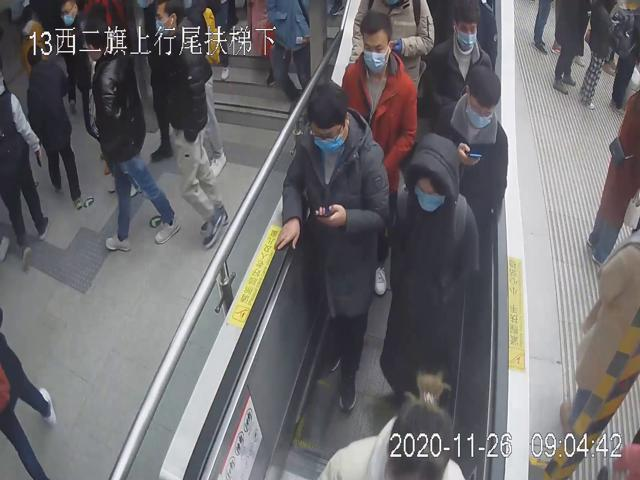person: (276, 76, 387, 408), (379, 129, 481, 413), (82, 24, 182, 254), (154, 0, 233, 250), (340, 9, 418, 197), (433, 67, 511, 227), (416, 3, 498, 139), (27, 46, 86, 211)
